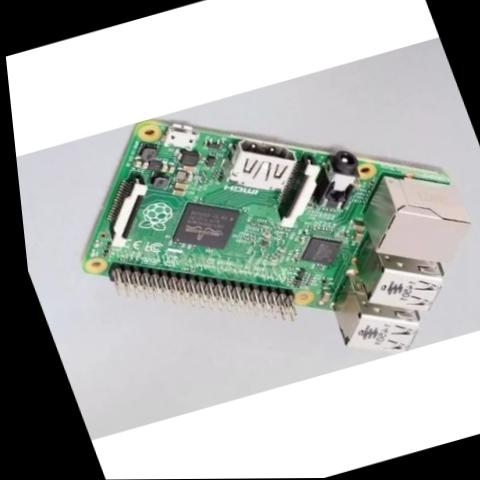Raspberry-Pi-2-Model-B: (17, 45, 480, 429)
